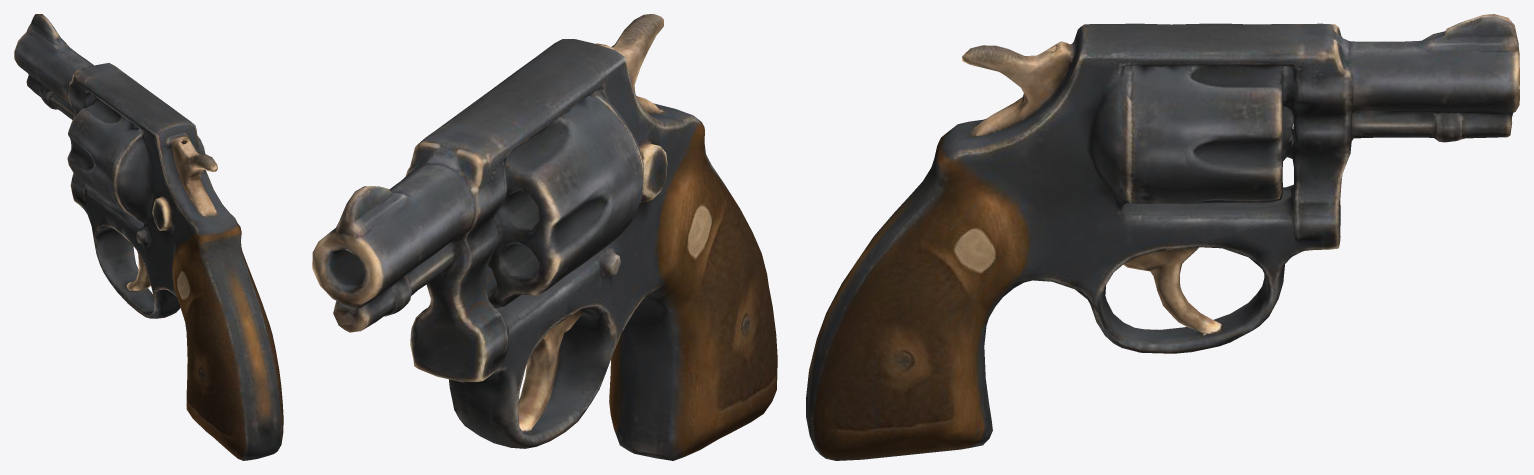
File: survey-pistol.glb
3 views of the same model, side by side, from view 1: azimuth 30°, elevation 25°; view 2: azimuth 150°, elevation 25°; view 3: azimuth 270°, elevation 25° (orthographic). The views are drawn at different scales.
Visible parts, largest first — view 1: Mesh_0; view 2: Mesh_0; view 3: Mesh_0.
Part boxes in pixels (left/top/right/bottom): Mesh_0: left=14, top=14, right=283, bottom=460; Mesh_0: left=312, top=14, right=777, bottom=460; Mesh_0: left=806, top=14, right=1519, bottom=460.
Bounding box in the file's own units: 0.0443 × 0.1281 × 0.19.
1 material, 1 textured.
